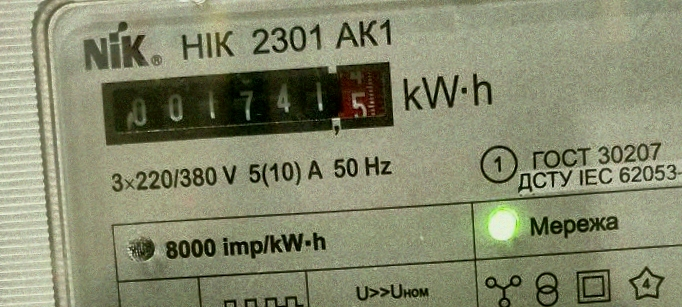0: (164, 89, 185, 124), (128, 94, 149, 128)
1: (200, 85, 219, 122), (310, 78, 327, 114)
4: (272, 79, 294, 115), (347, 67, 364, 86)
5: (347, 87, 368, 119)
7: (236, 86, 255, 122)
screen: (94, 54, 401, 151)
